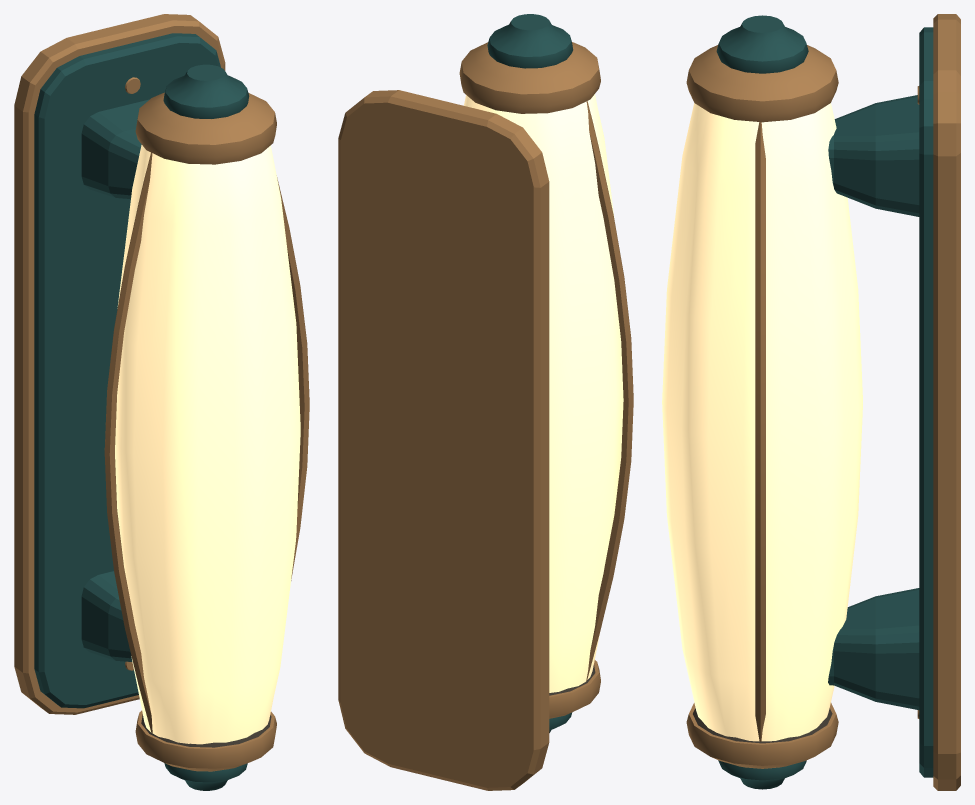
3 views of the same model, side by side, from view 1: azimuth 30°, elevation 25°; view 2: azimuth 150°, elevation 25°; view 3: azimuth 270°, elevation 25° (orthographic). The views are drawn at different scales.
Visible parts, largest first — view 1: Fixture; view 2: Fixture; view 3: Fixture.
Boxes of the visible parts, <box> form: Fixture: <box>14,14,309,790</box>; Fixture: <box>338,14,633,790</box>; Fixture: <box>662,14,960,790</box>.
Size of the model in its own units: 0.1094 by 0.362 by 0.1296.
